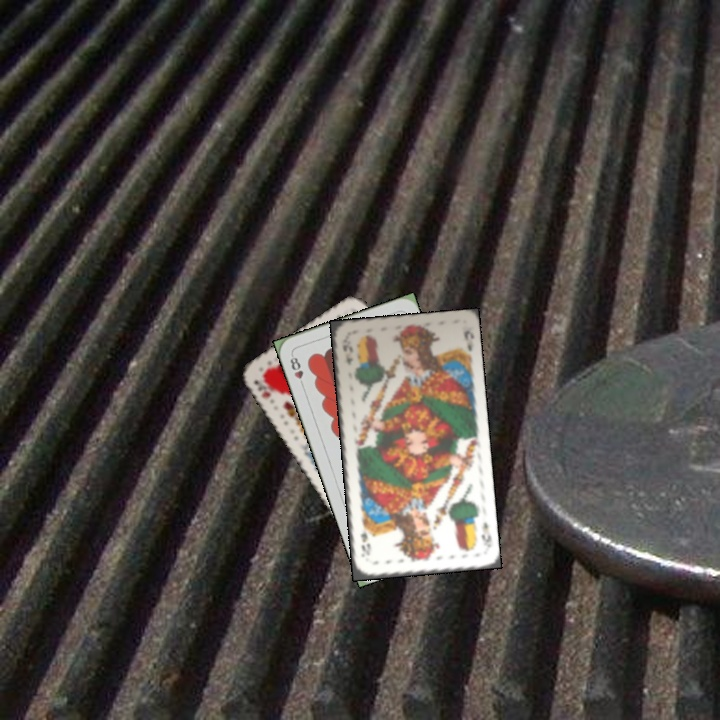EK: (477, 518, 494, 552), (340, 338, 356, 367)
H8: (286, 350, 307, 390)
HK: (250, 372, 274, 401)
